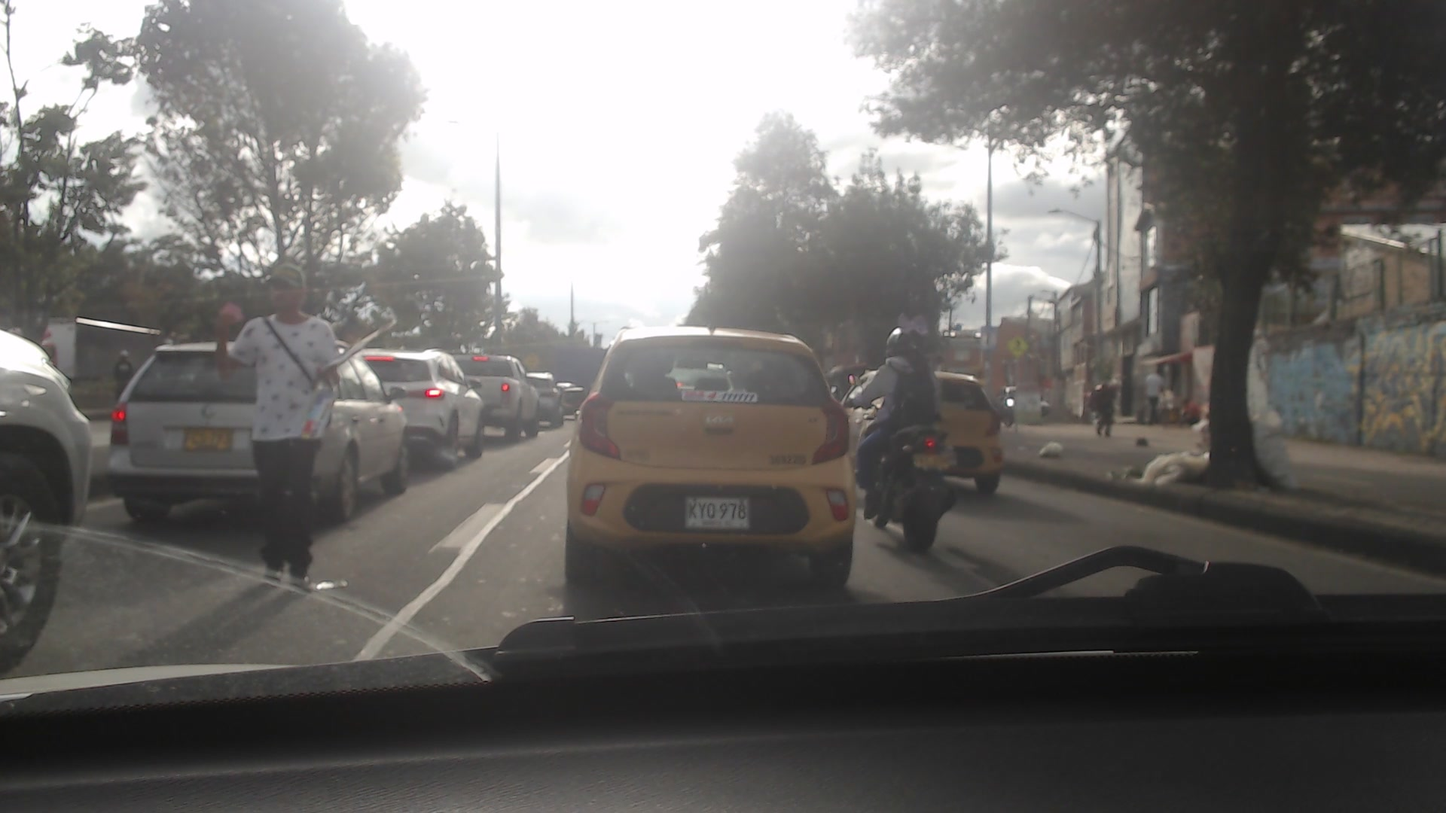car: (566, 322, 856, 596), (358, 344, 490, 463), (441, 350, 551, 446)
motorcycle: (850, 412, 943, 551)
person: (215, 262, 351, 602), (869, 316, 936, 518), (1143, 369, 1164, 426)
